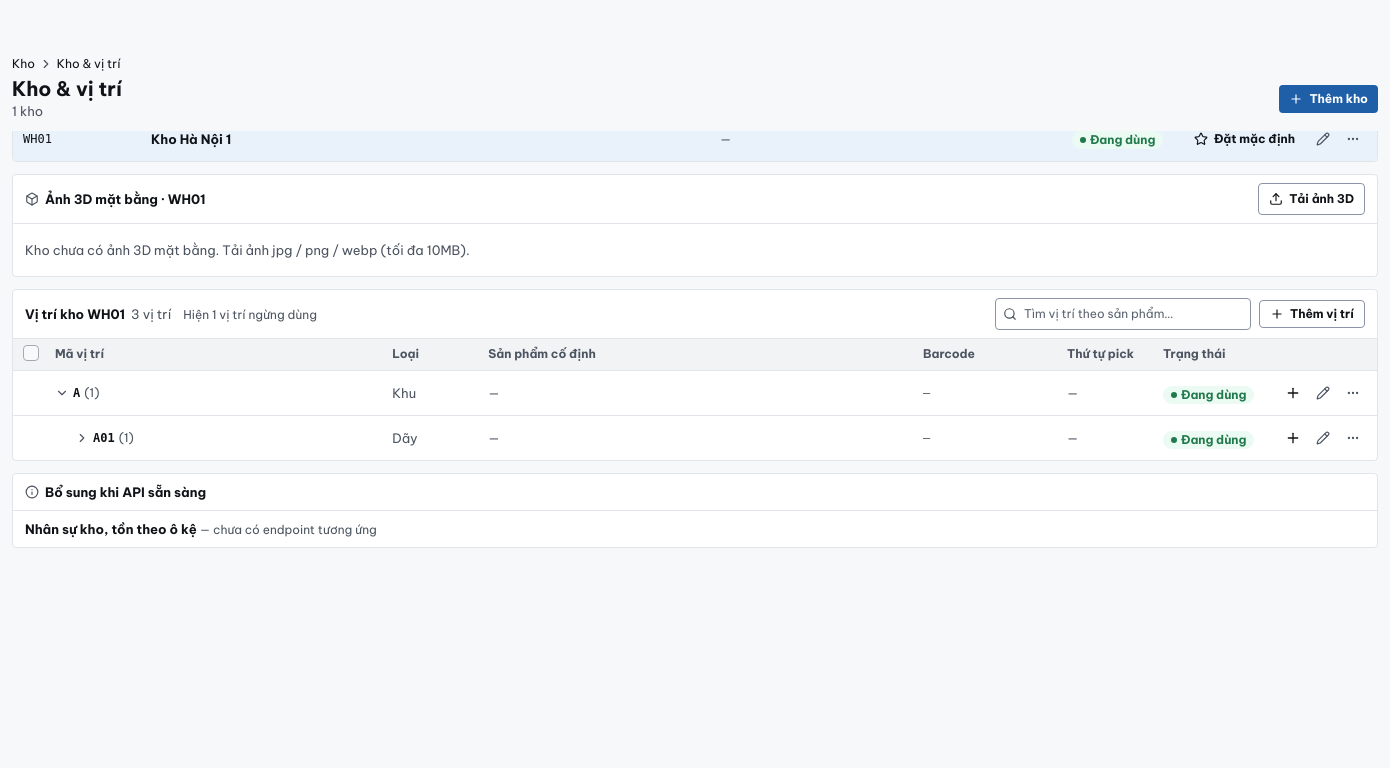
Test: LocationsPanel — cây vị trí kho + CRUD › tìm vị trí theo sản phẩm: lọc cây, không dấu vẫn khớp, nhánh khớp tự mở
The image size is (1390, 768).
Expected: the heading "Vị trí kho WH01" is shown, [25,304,317,324]
Expected: the text "A01" is shown, [93,430,115,446]
Type "but bi" into the field labelled "Tìm vị trí theo sản phẩm" at coordinates (1123, 314), box [995,298,1251,330]
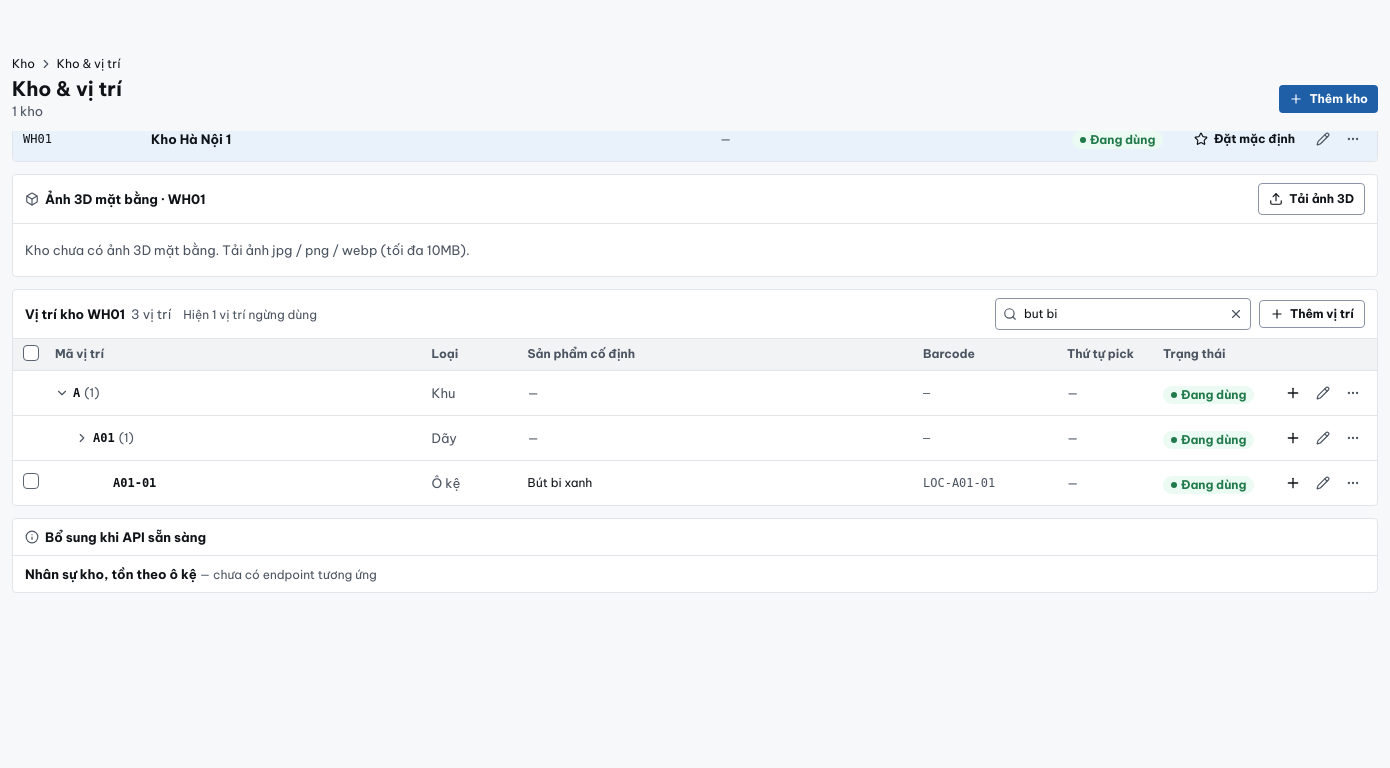
Expected: the text "A01" is shown, [93,430,115,446]
Result: the text "A01-01" is shown at [113,475,156,491]
Tìm theo mã SKU cũng ra
Replace the text in the field named "Tìm vị trí theo sản phẩm" with "P001" at coordinates (1123, 314), box [995,298,1251,330]
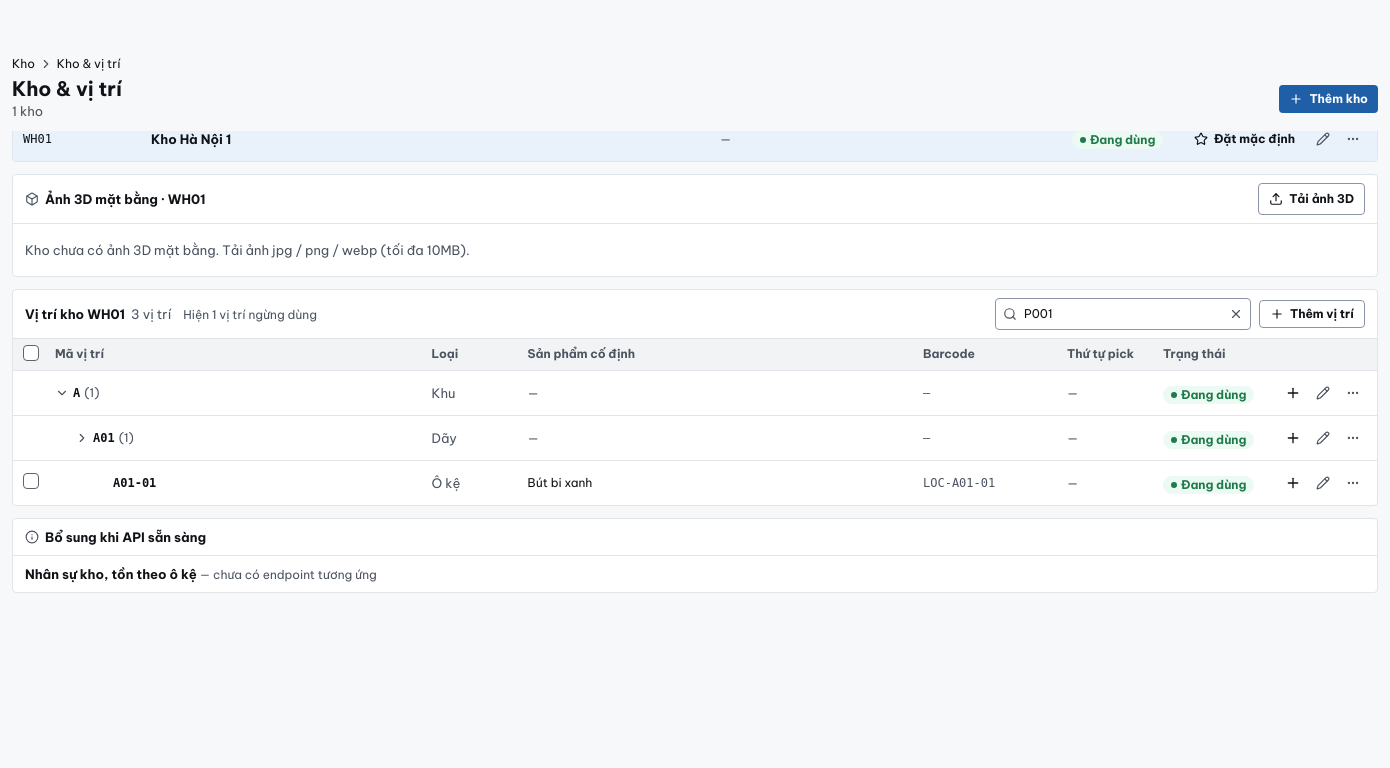
Result: the text "A01-01" is shown at [113,475,156,491]
Xóa từ khoá → cây về trạng thái cũ (node sâu đóng)
Click the button named "Xóa từ khoá tìm" at coordinates (1236, 314), box [1229,306,1243,320]
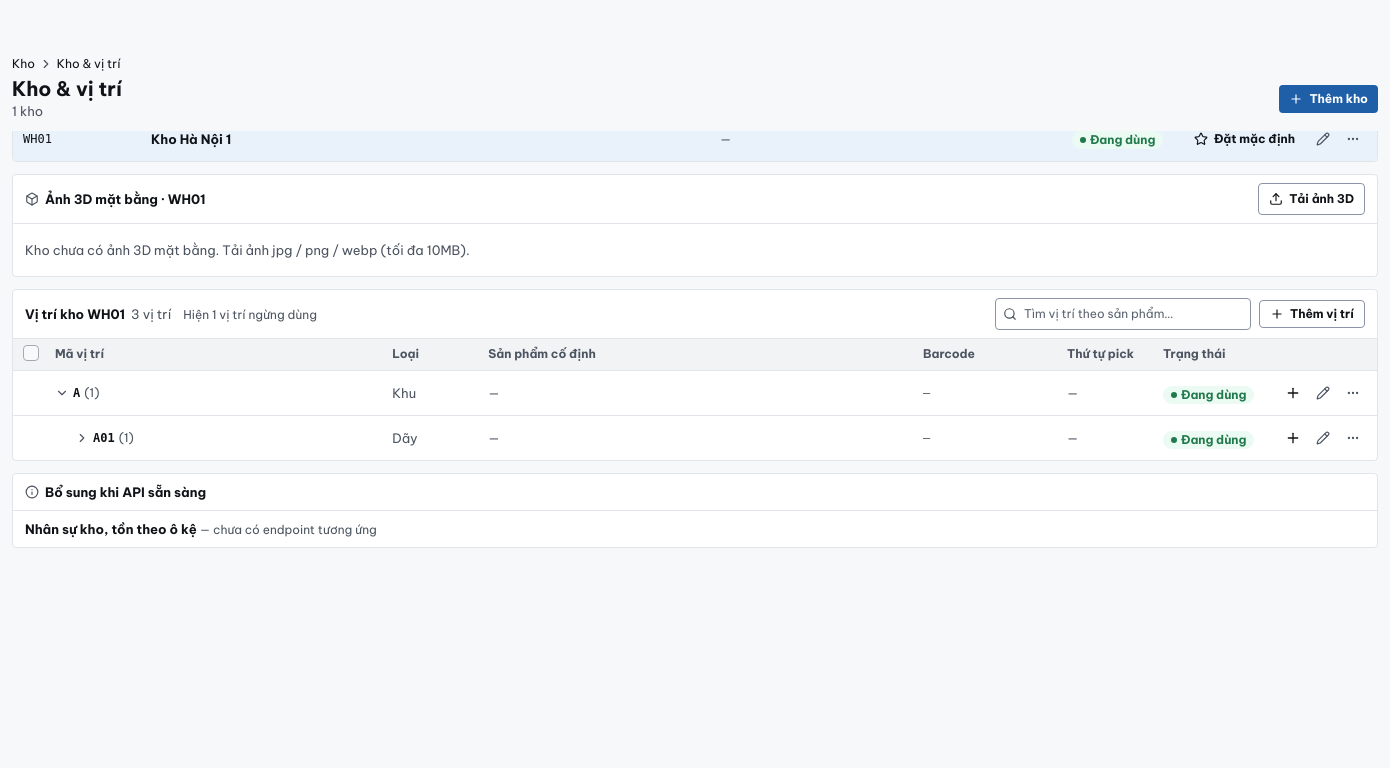
Expected: the text "A01" is shown, [93,430,115,446]
Result: the text "A01-01" is gone
